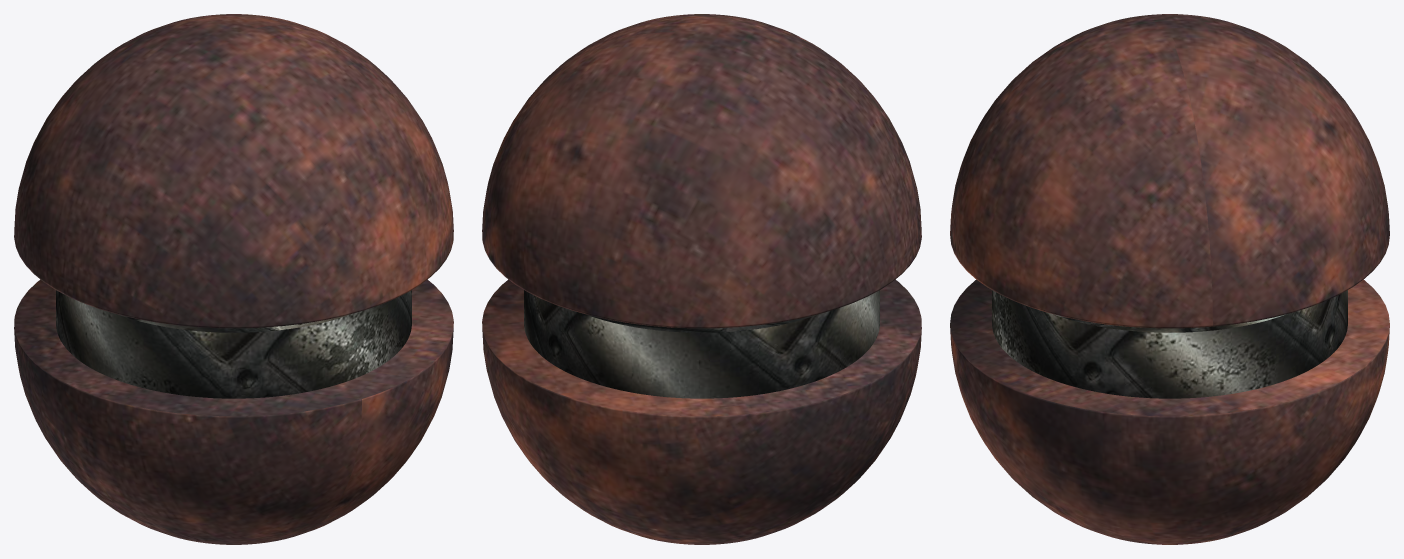
The model's file is droid_anim_000019.obj.
3 views of the same model, side by side, from view 1: azimuth 30°, elevation 25°; view 2: azimuth 150°, elevation 25°; view 3: azimuth 270°, elevation 25° (orthographic).
Visible parts, largest first — view 1: Sphere.004, Sphere.005, Cylinder.002; view 2: Sphere.004, Sphere.005, Cylinder.002; view 3: Sphere.004, Sphere.005, Cylinder.002.
Boxes of the visible parts, x1,y1,x2,y2 form: Sphere.004: (14,14,453,328); Sphere.005: (14,279,453,544); Cylinder.002: (56,290,411,398); Sphere.004: (482,14,921,328); Sphere.005: (482,279,921,544); Cylinder.002: (524,290,879,398); Sphere.004: (950,14,1389,328); Sphere.005: (950,279,1389,544); Cylinder.002: (992,290,1347,398).
Bounding box in the file's own units: 2 × 2.46 × 2.
3 materials, 3 textured.
